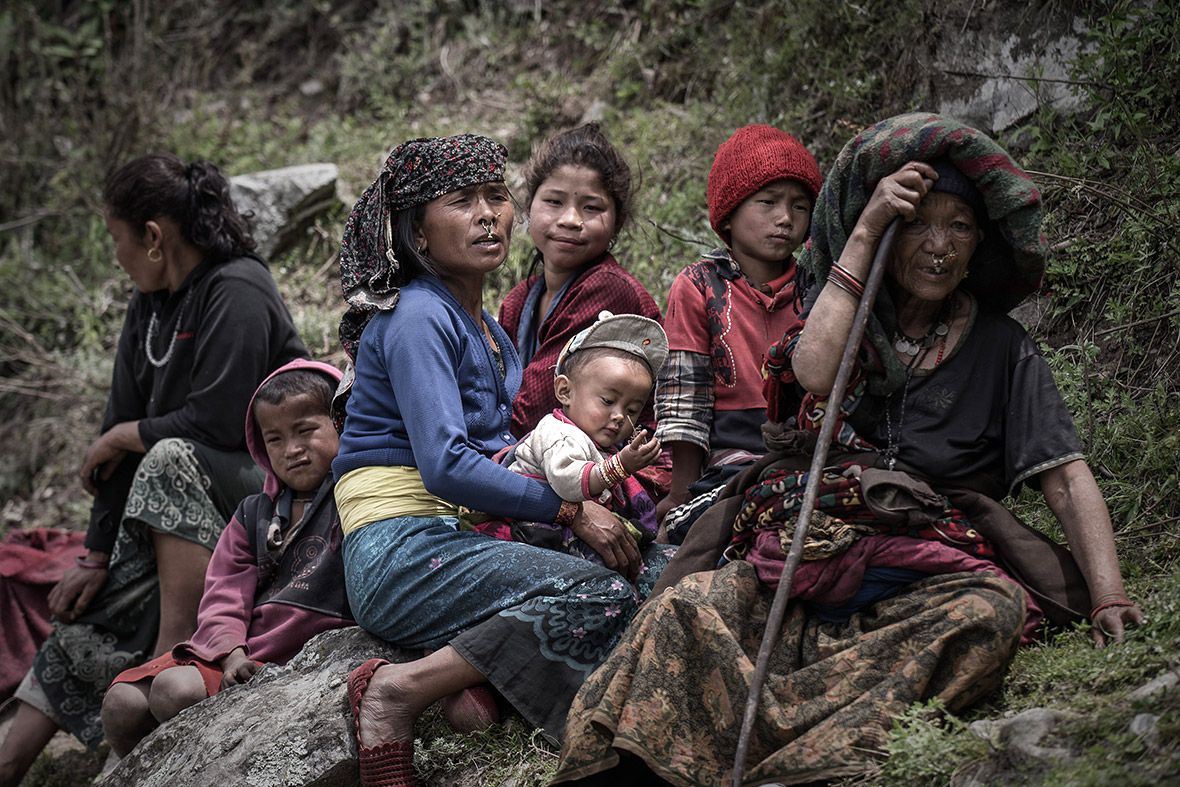human: (584, 101, 1153, 787), (315, 122, 648, 787), (1, 125, 304, 787), (94, 353, 369, 758), (644, 118, 825, 541), (495, 111, 662, 435), (504, 298, 669, 565)
